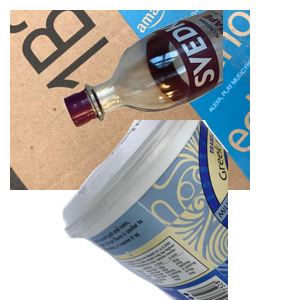cardboard: (10, 10, 250, 190)
glass: (60, 10, 300, 130)
plastic: (60, 120, 300, 300)
trash: (84, 133, 292, 300)
